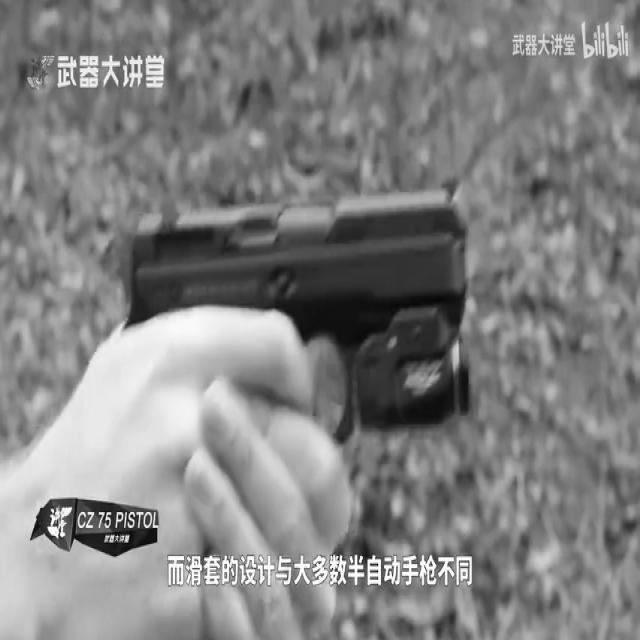Hand-Gun: (122, 170, 492, 460)
